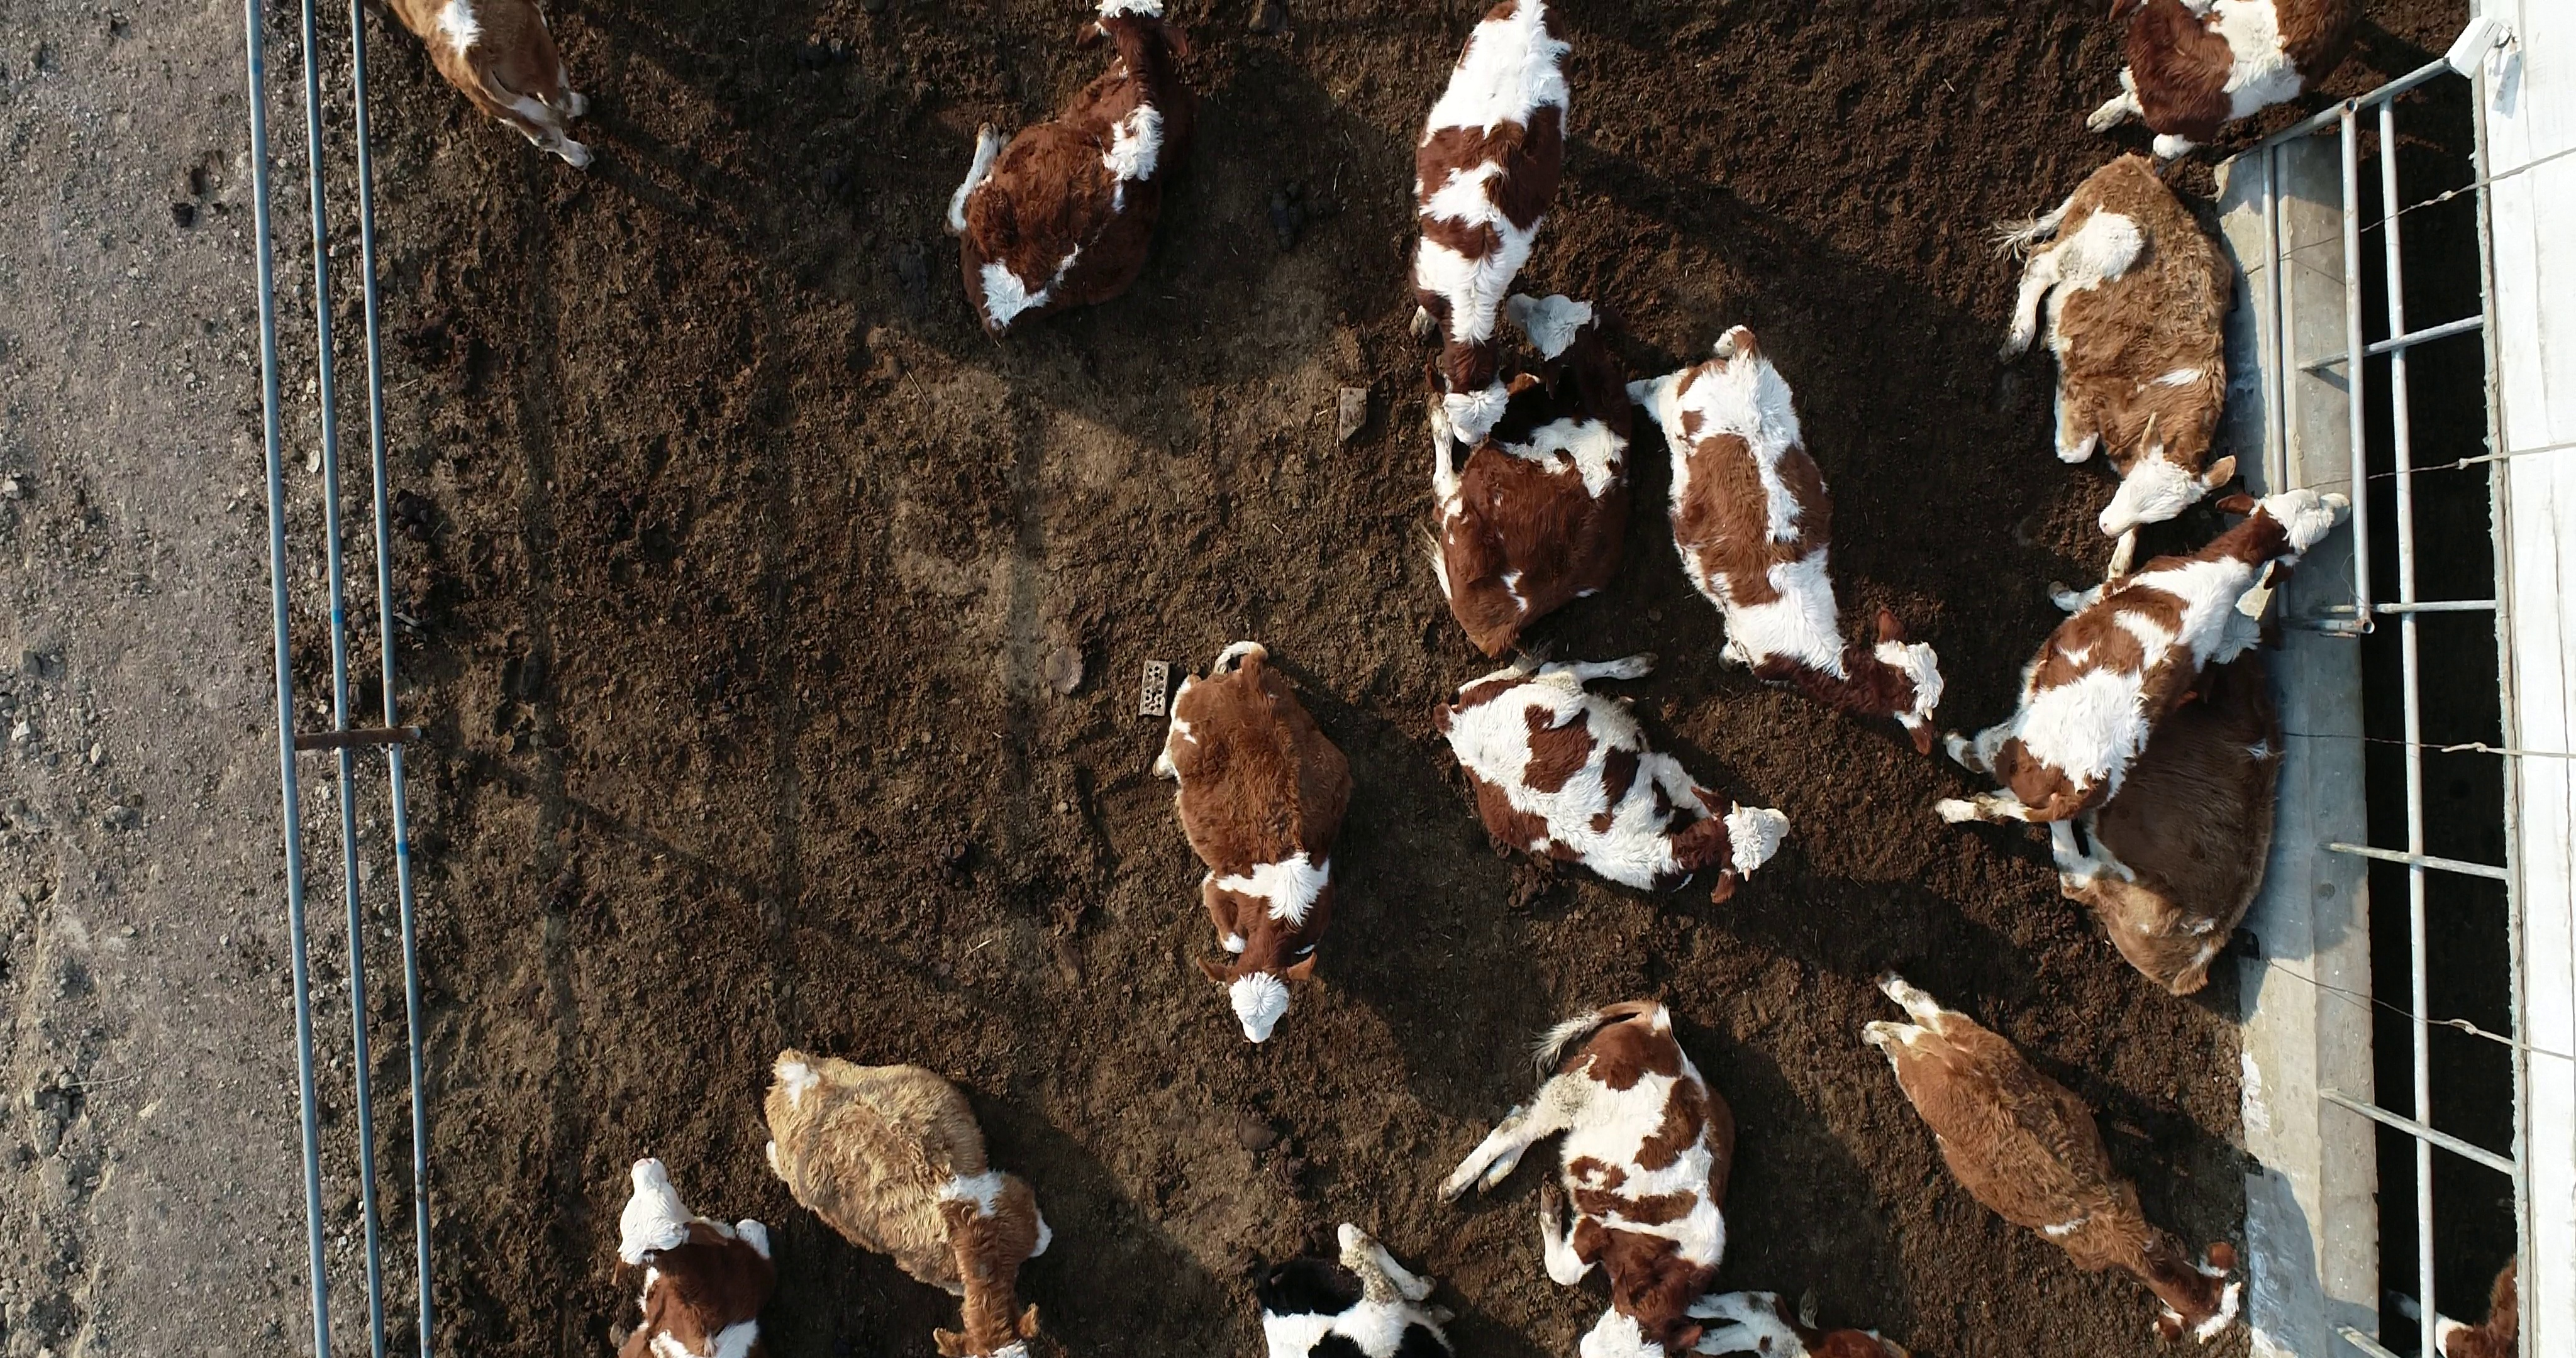cattle: (1927, 482, 2353, 835), (1860, 963, 2247, 1348), (1620, 322, 1949, 763), (1980, 147, 2247, 540), (1423, 654, 1794, 912), (1141, 637, 1363, 1055), (1392, 2, 1581, 450)
